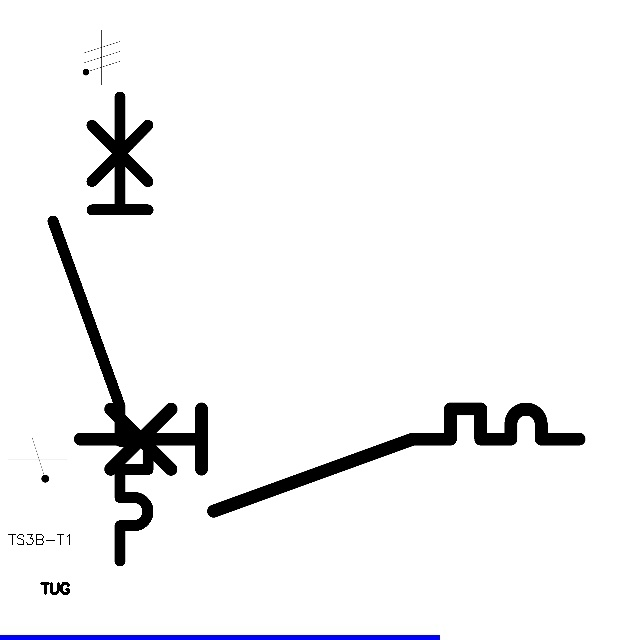interruptor_termomagnetico: (67, 396, 592, 524), (41, 85, 160, 573)
